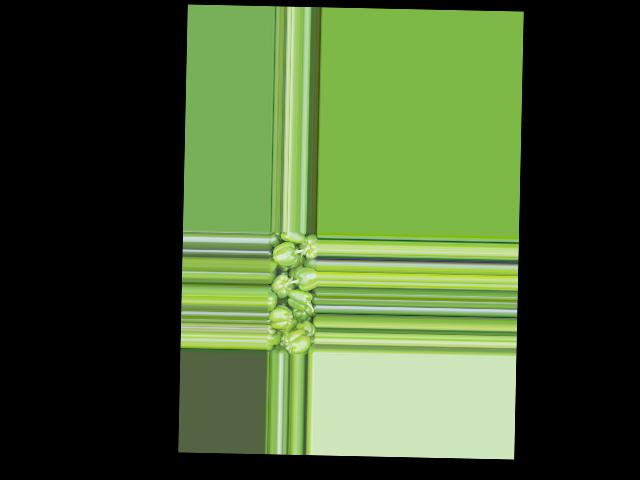bell_pepper: (266, 232, 316, 355)
